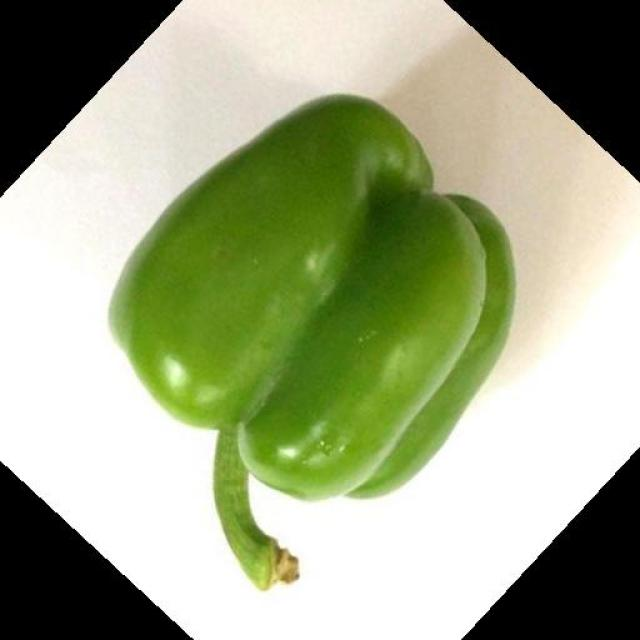Fresh_Capsicum: (116, 134, 574, 521)
